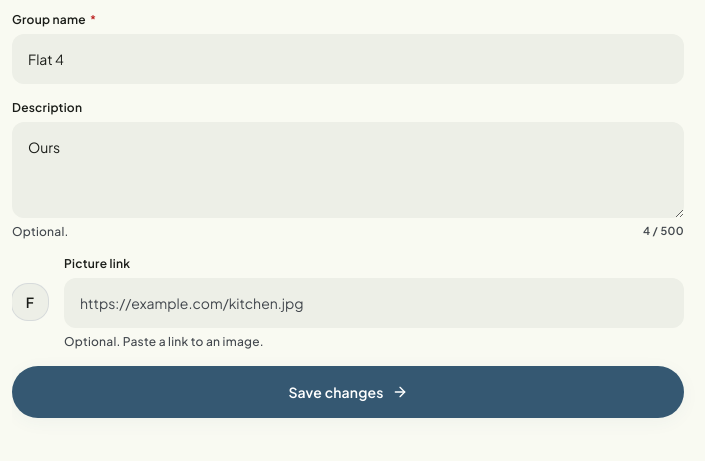
EditGroupForm › does not submit a group with no name
Clear the field labelled "Group name" at (348, 59), box top-left (12, 34), bottom-right (684, 84)
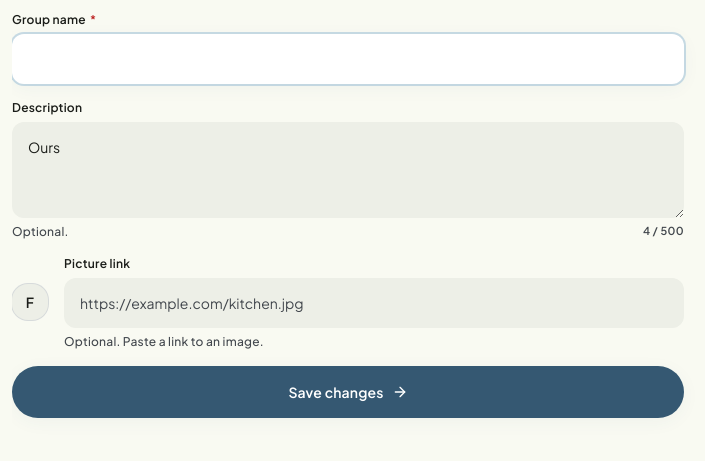
Click the button "Save changes".
click(348, 392)  # box top-left (12, 366), bottom-right (684, 418)
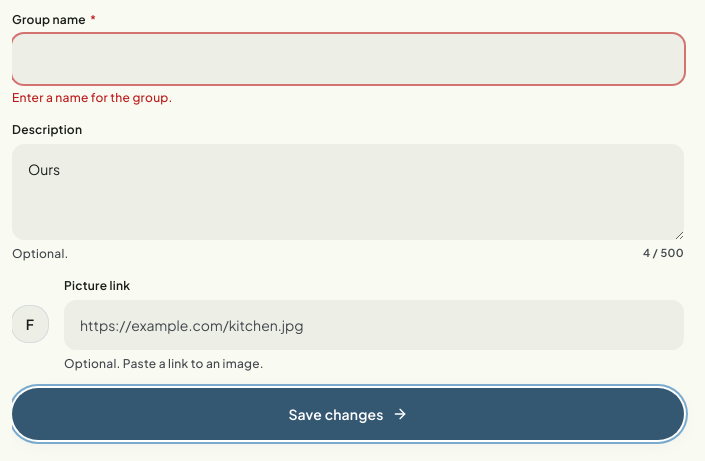
Now the text "Enter a name for the group." is shown, box top-left (12, 90), bottom-right (173, 105)
